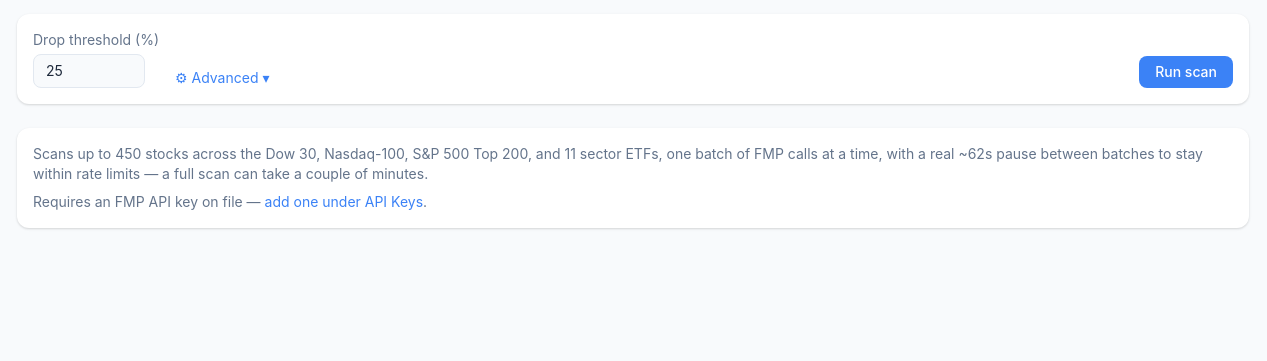
Test case: ContrarianFinderPage › summary line shows the trading-day date the scan compares prices against
Click the button "Run scan" at (1186, 72), box [1139, 56, 1233, 88]
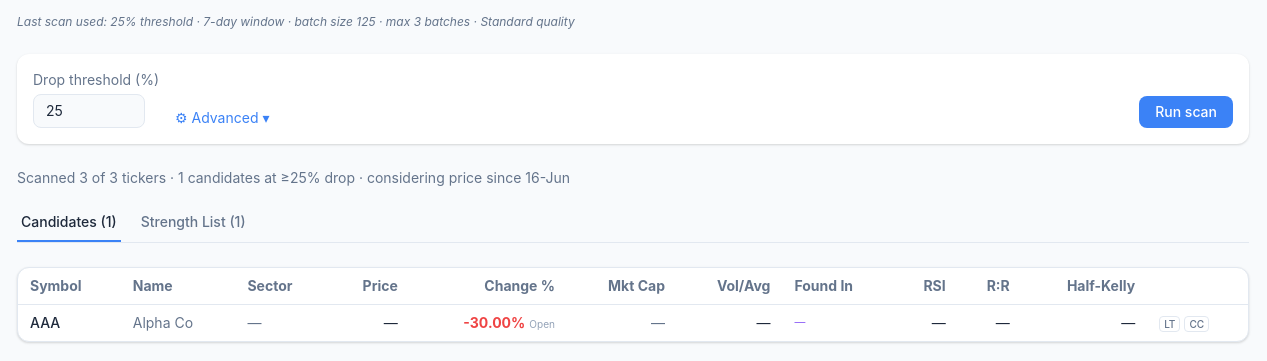
Expected: the text "considering price since 16-Jun" is shown, [17, 169, 570, 186]
